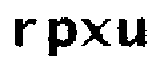p: (44, 15, 79, 60)
r: (11, 16, 37, 48)
u: (116, 16, 151, 51)
x: (79, 17, 112, 50)
